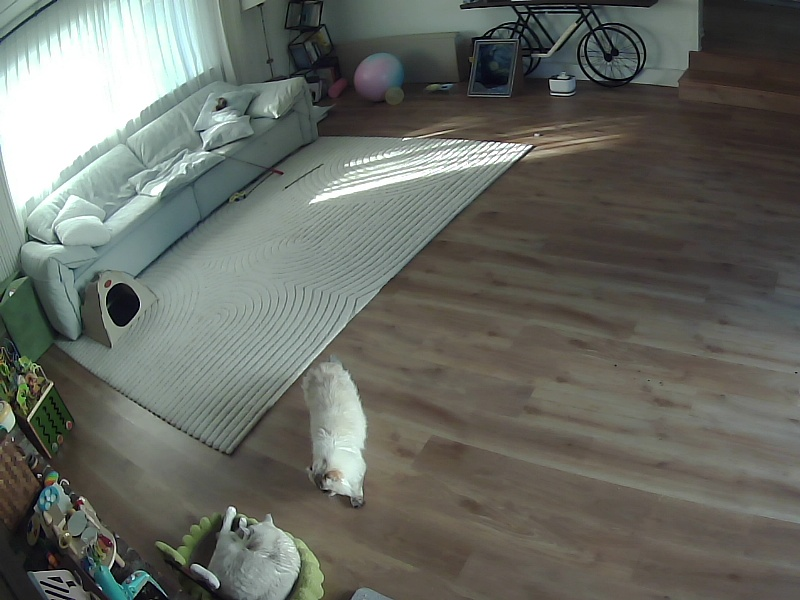Qb-2: (190, 506, 300, 599)
Qbo-2: (302, 357, 366, 507)
